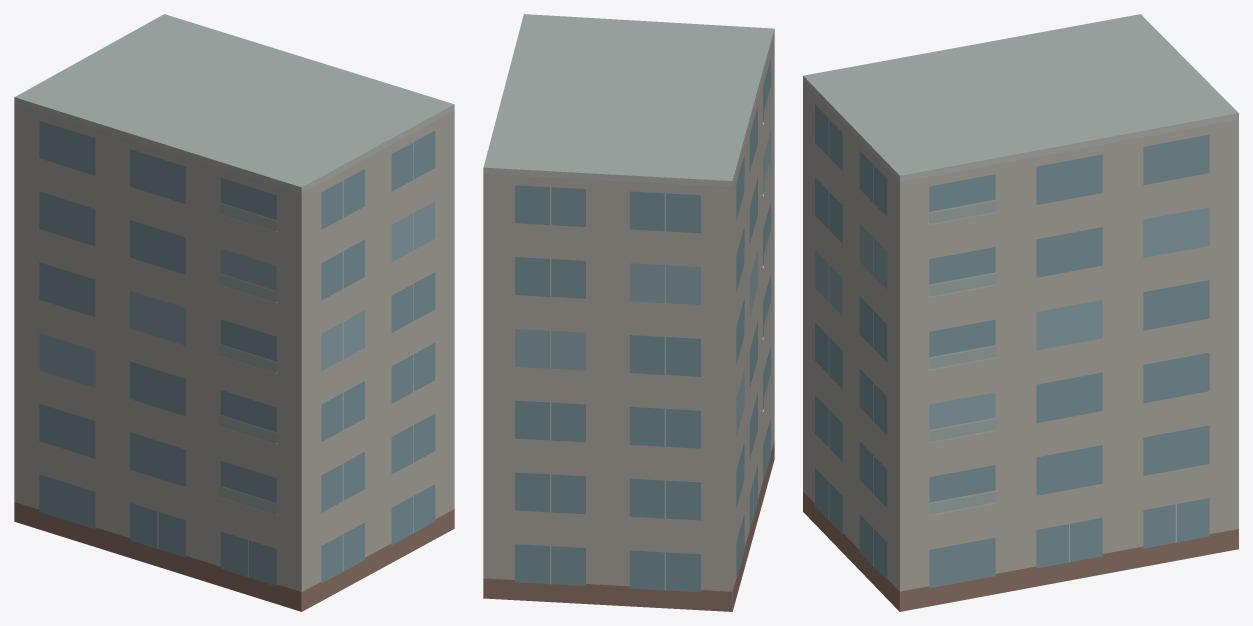
The model's file is survey-upis-32862018.glb.
3 renders of one model, left to right at view 1: azimuth 30°, elevation 25°; view 2: azimuth 150°, elevation 25°; view 3: azimuth 270°, elevation 25°, orthographic. The views are drawn at different scales.
Visible parts, largest first — view 1: survey-upis-32862018.tmp; view 2: survey-upis-32862018.tmp; view 3: survey-upis-32862018.tmp.
Boxes of the visible parts, x1,y1,x2,y2 form: survey-upis-32862018.tmp: (14,14,454,611); survey-upis-32862018.tmp: (483,14,774,611); survey-upis-32862018.tmp: (803,14,1238,611).
Size of the model in its own units: 13.61 by 17.09 by 15.49.
